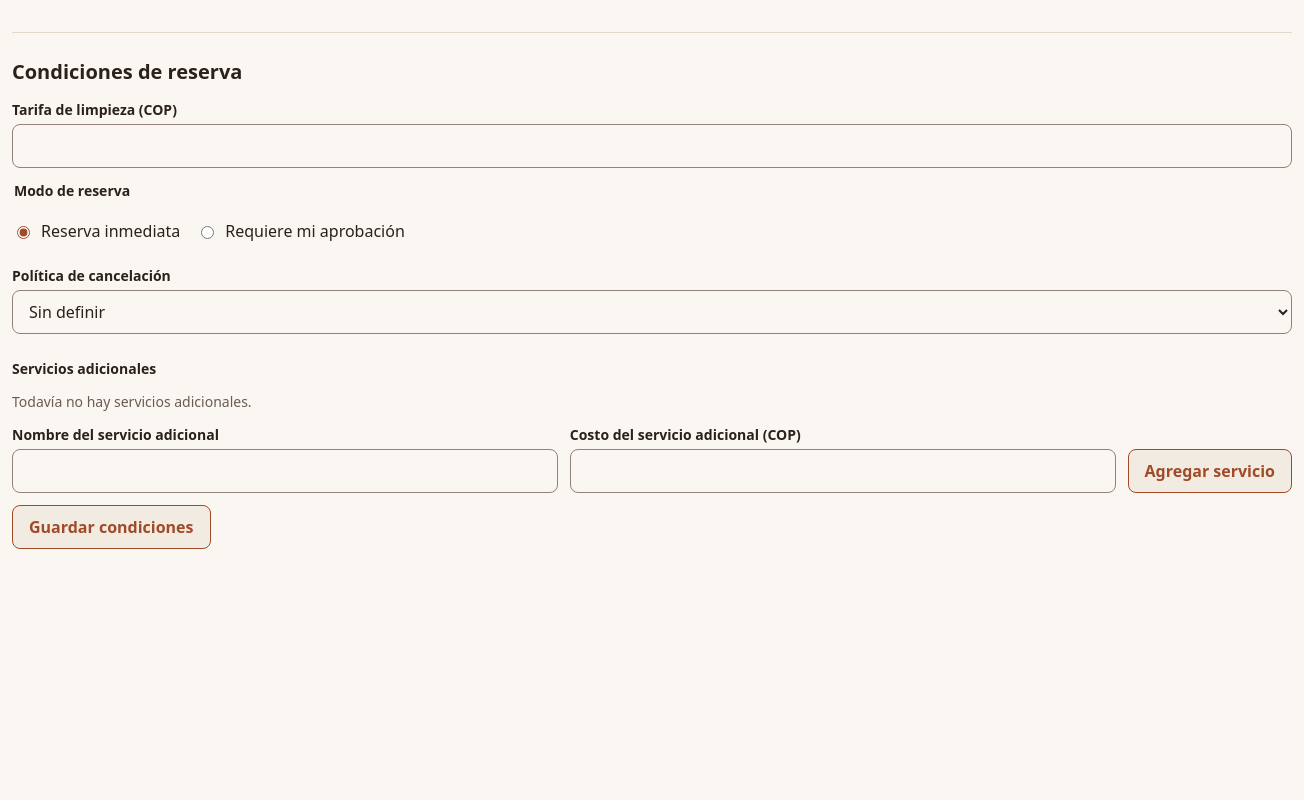
ConfiguracionPublicacion › no agrega el servicio adicional  con costo 15000
The image size is (1304, 800).
Type "15000" into the field labelled "Costo del servicio adicional (COP)" at (843, 471), box [570,449,1116,493]
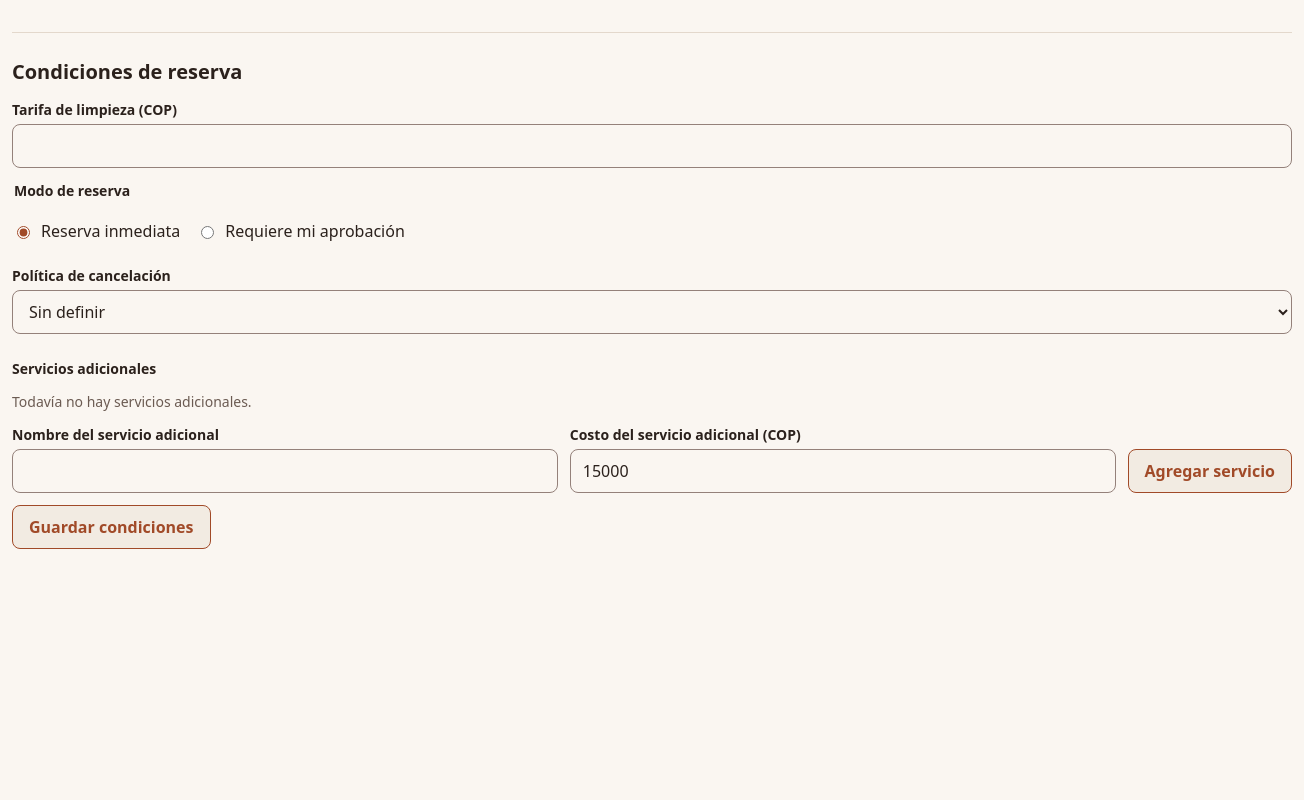
Click the button "Agregar servicio" at (1210, 471), box [1128,449,1292,493]
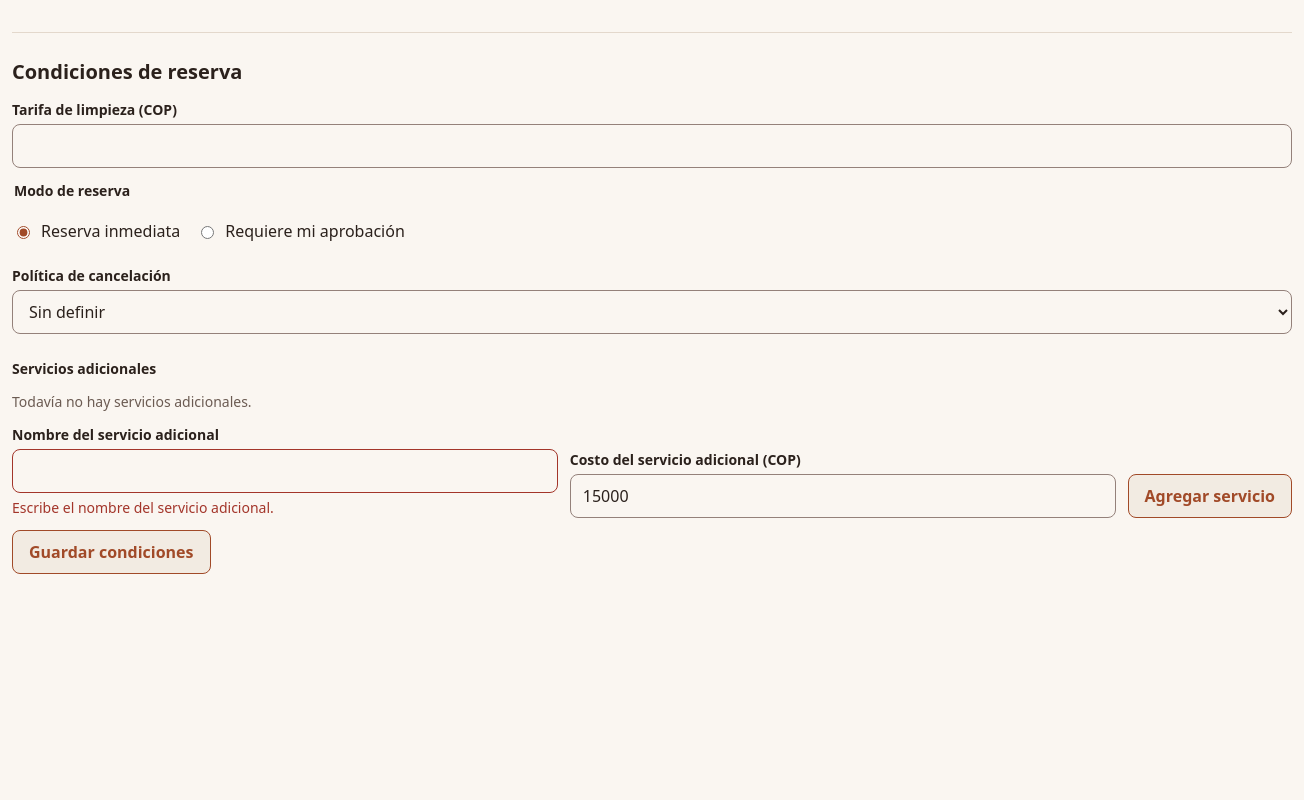
Expected: the text "Todavía no hay servicios adicionales." is shown, [12,392,252,411]
Now the text "Escribe el nombre del servicio adicional." is shown, box [12,498,274,517]
